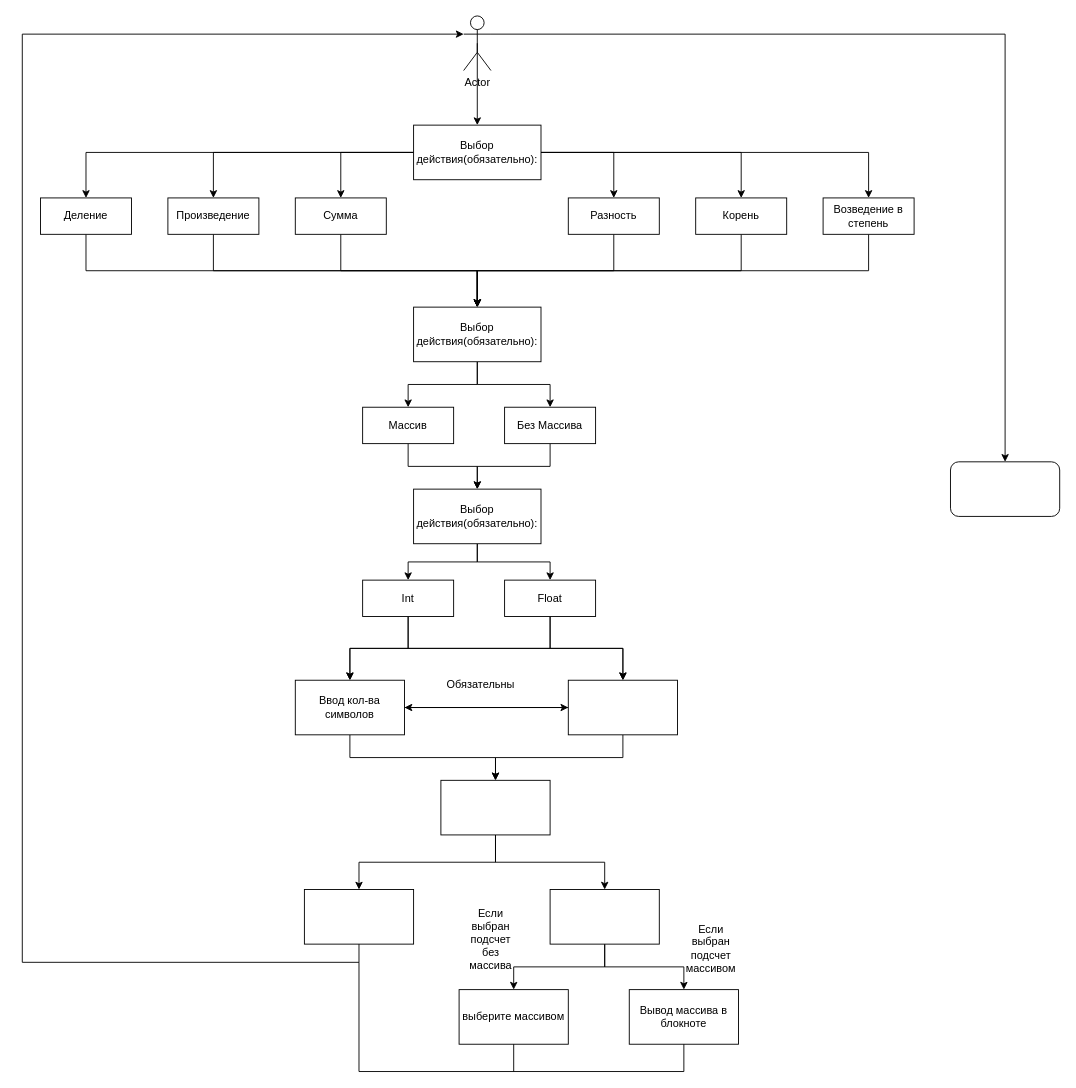
The diagram is 1076 pixels wide and 1088 high, and some of its shapes have lost their labels. Here are the shapes that lost their labels. From the top down, the centre of each, then its label:
At (1005,488): "Закрытие программы".
At (622,707): "Ввод диапозона рандомайзера".
At (495,807): "Кнопка подсчет".
At (358,916): "Выводится время затраченное на расчет и полученное значение".
At (604,916): "Кнопка вывести массив".
